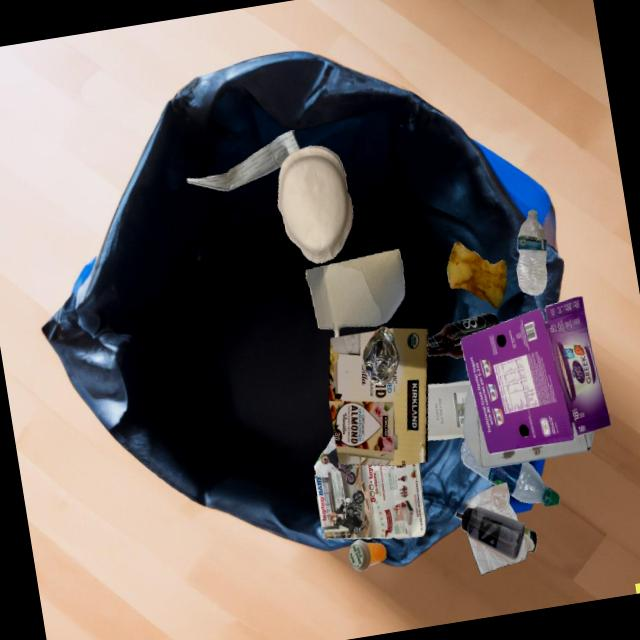biowaste: (447, 242, 507, 309)
cardboard: (461, 296, 611, 454), (329, 328, 428, 466), (463, 383, 594, 469), (306, 249, 405, 337)
glass: (428, 313, 499, 359), (525, 528, 537, 553)
metal: (361, 326, 399, 386)
paper: (314, 435, 428, 539), (278, 146, 353, 263), (186, 130, 301, 191), (467, 532, 535, 575), (427, 380, 470, 440), (465, 482, 518, 521)
plastic: (461, 439, 560, 506), (455, 506, 525, 560), (517, 210, 547, 295), (349, 540, 386, 571)
